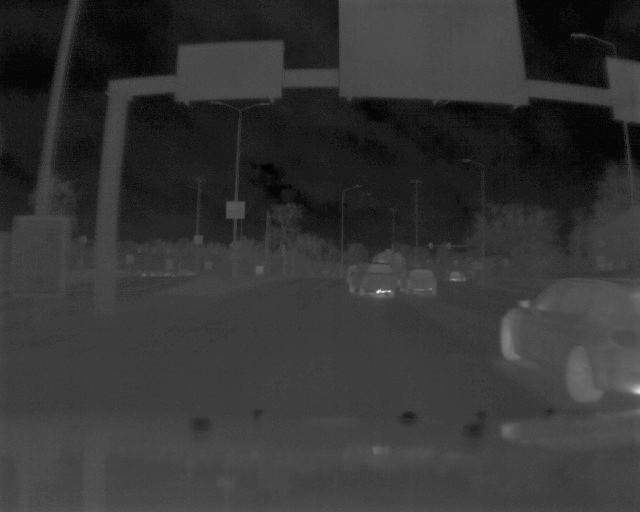car: (497, 278, 640, 403), (349, 253, 396, 299), (400, 262, 440, 295), (449, 267, 466, 285)
